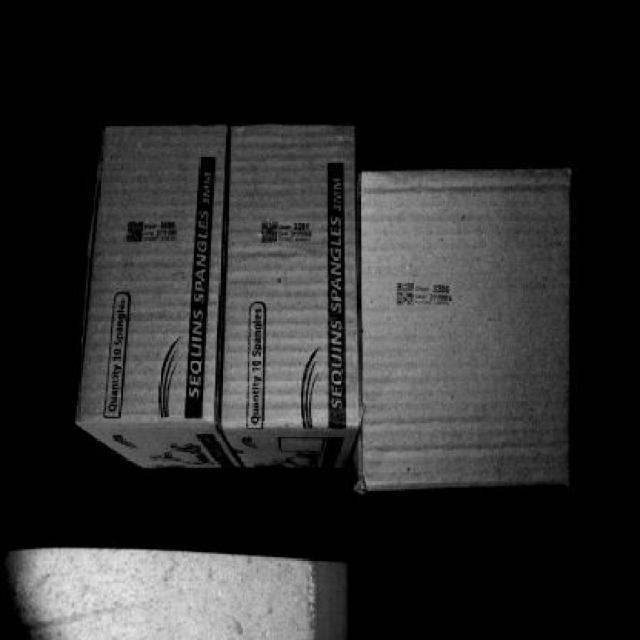box: (358, 176, 570, 484), (225, 124, 362, 430), (84, 116, 220, 418)
